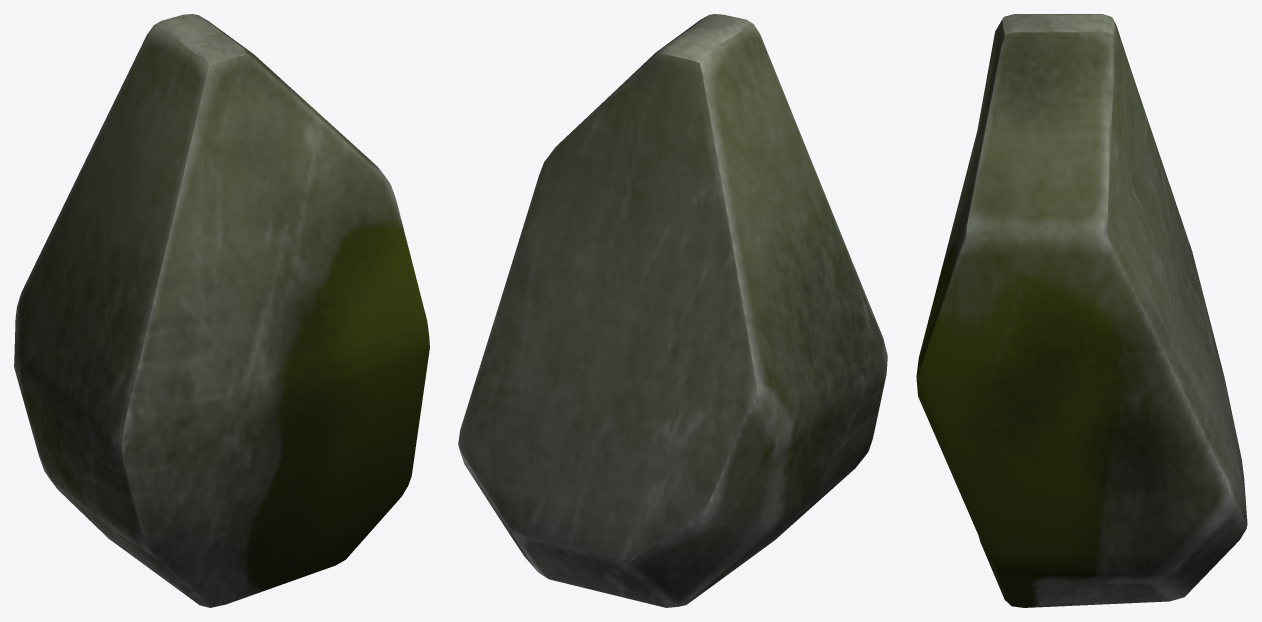
File: rock4_unity.fbx
The picture shows the model from 3 angles, left to right: view 1: azimuth 30°, elevation 25°; view 2: azimuth 150°, elevation 25°; view 3: azimuth 270°, elevation 25°; orthographic projection. The views are drawn at different scales.
Parts seen in each view (by area): view 1: Object012; view 2: Object012; view 3: Object012.
Part boxes in pixels (<box>): Object012: <box>14,14,429,607</box>; Object012: <box>458,14,887,607</box>; Object012: <box>916,14,1247,607</box>.
Bounding box in the file's own units: 26.6 × 24.68 × 43.46.
1 material, 1 textured.
